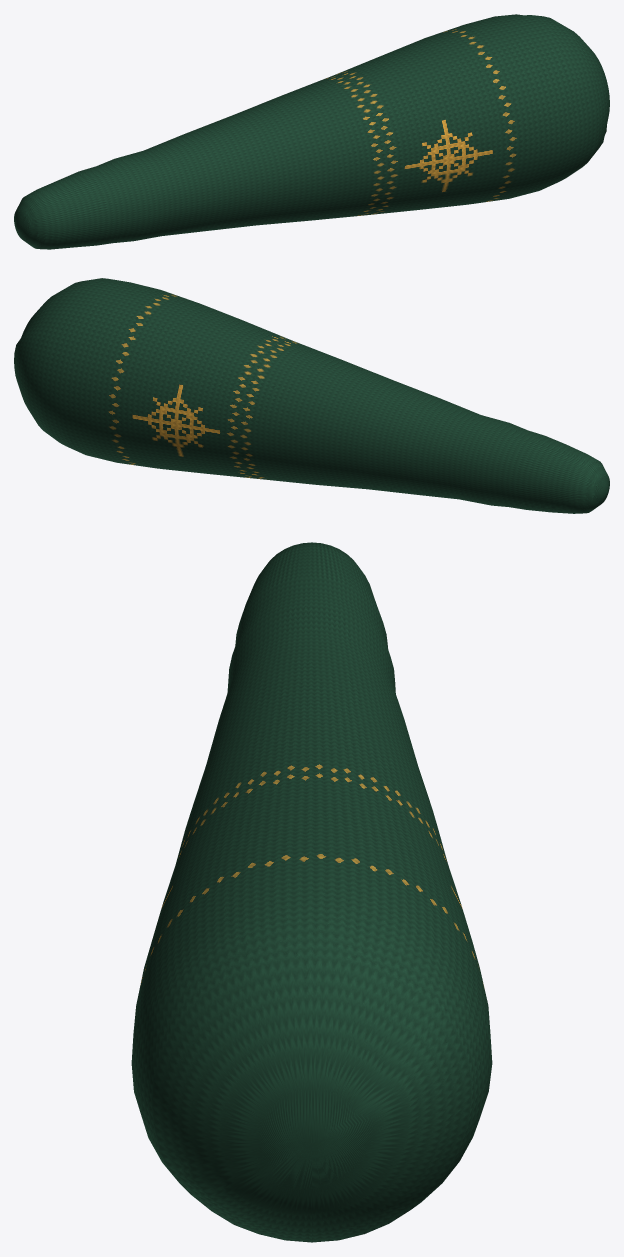
Rendered from sleeve-left.fbx.
The picture shows the model from 3 angles, top to bottom: view 1: azimuth 30°, elevation 25°; view 2: azimuth 150°, elevation 25°; view 3: azimuth 270°, elevation 25°; orthographic projection. The views are drawn at different scales.
Parts seen in each view (by area): view 1: sleeve-left; view 2: sleeve-left; view 3: sleeve-left.
Boxes of the visible parts, left/top/right/bottom form: sleeve-left: left=14, top=14, right=609, bottom=249; sleeve-left: left=14, top=278, right=609, bottom=513; sleeve-left: left=131, top=542, right=492, bottom=1242.
Bounding box in the file's own units: 66.5 × 17.82 × 17.9.
Materials: 1 (1 with a texture image).
